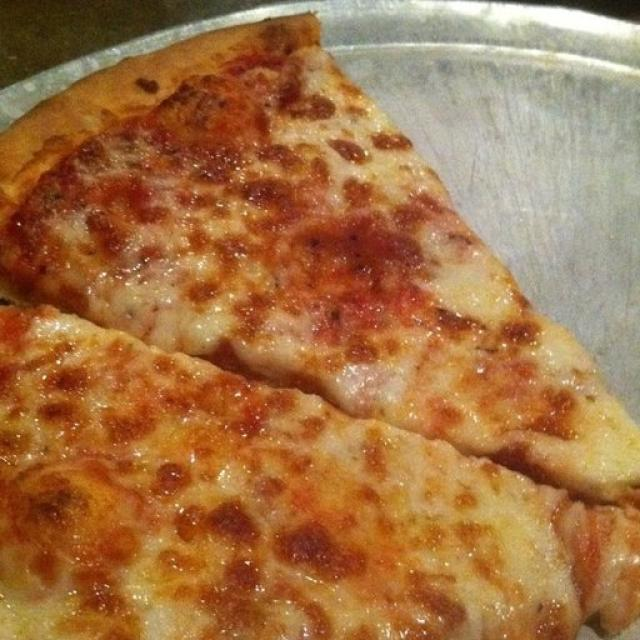Pizza: (0, 15, 640, 640)
